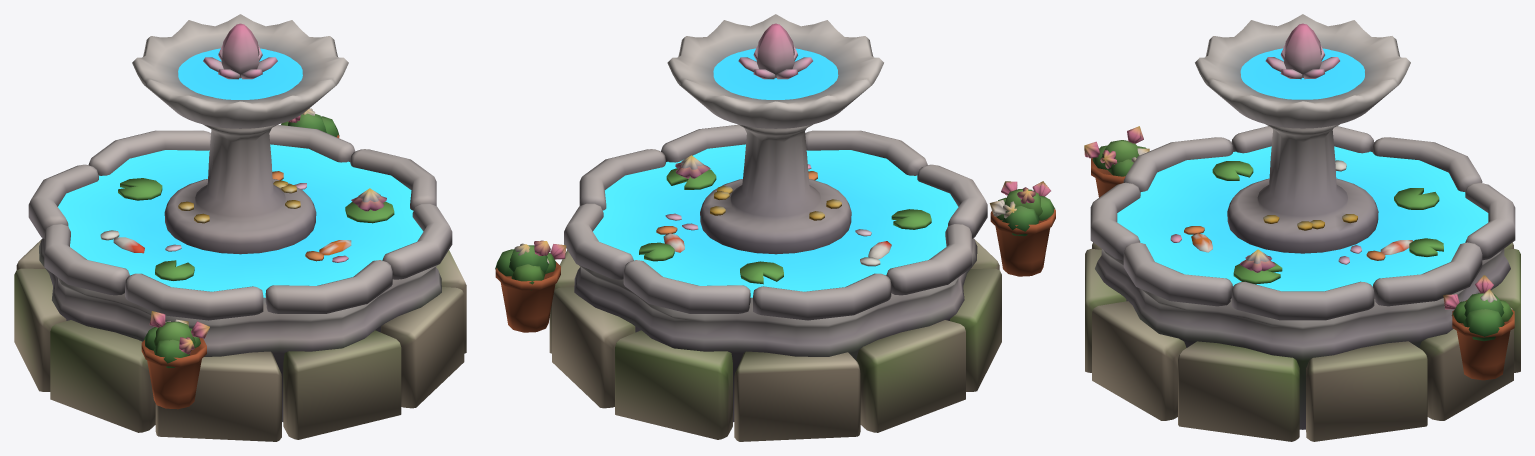
File: fountain.glb
3 renders of one model, left to right at view 1: azimuth 30°, elevation 25°; view 2: azimuth 150°, elevation 25°; view 3: azimuth 270°, elevation 25°, orthographic.
Visible parts, largest first — view 1: fountain, water; view 2: fountain, water; view 3: fountain, water.
Boxes of the visible parts, bbox=[...] form: fountain: bbox=[14, 14, 466, 441]; water: bbox=[58, 48, 423, 297]; fountain: bbox=[495, 14, 1055, 441]; water: bbox=[593, 48, 958, 297]; fountain: bbox=[1084, 14, 1520, 441]; water: bbox=[1117, 48, 1488, 291].
Bounding box in the file's own units: 2 × 1.57 × 1.93.
